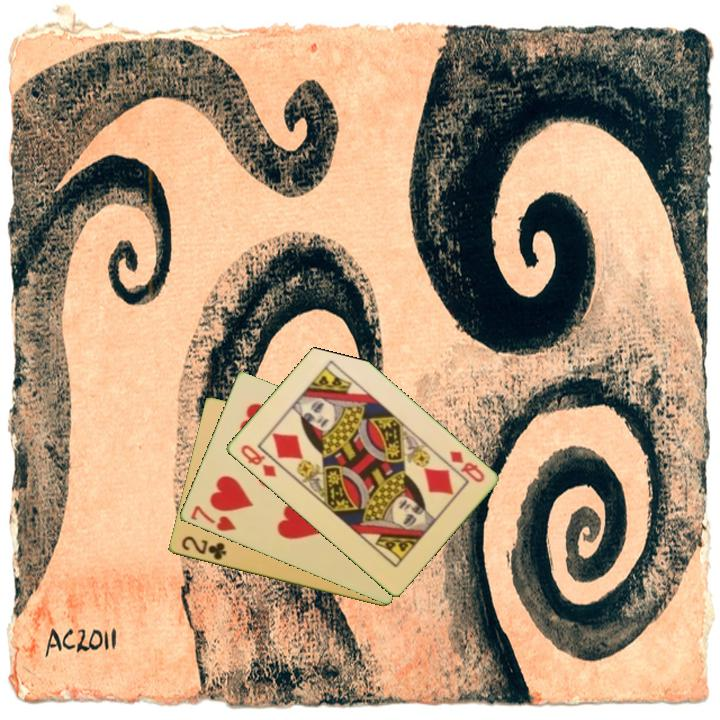2c: (178, 532, 229, 563)
7h: (187, 502, 239, 534)
Qd: (237, 441, 279, 480), (445, 447, 487, 486)
